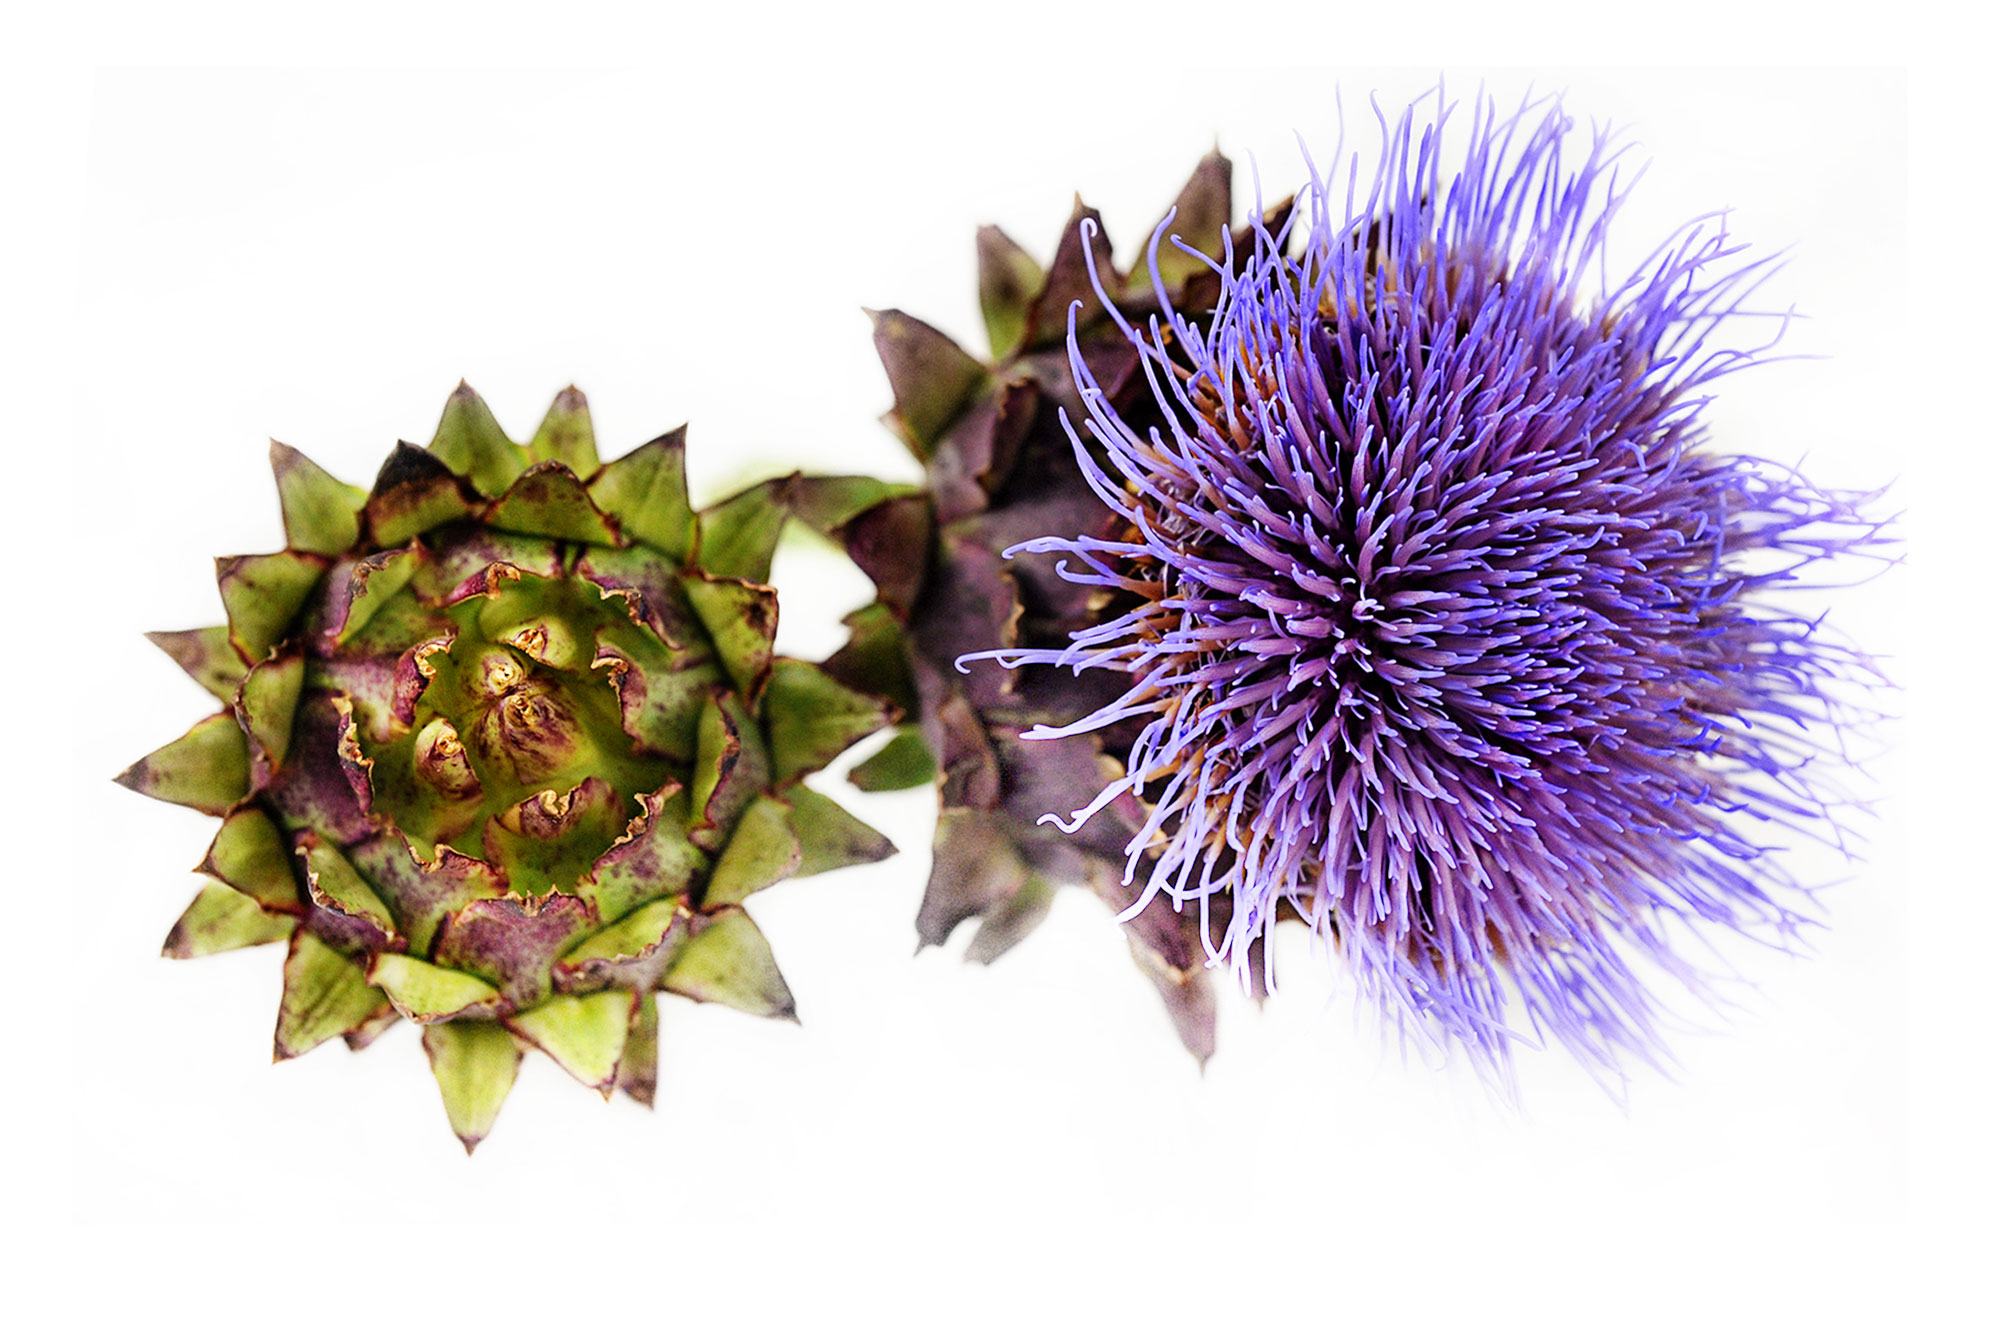thistle: (895, 130, 1855, 1078)
